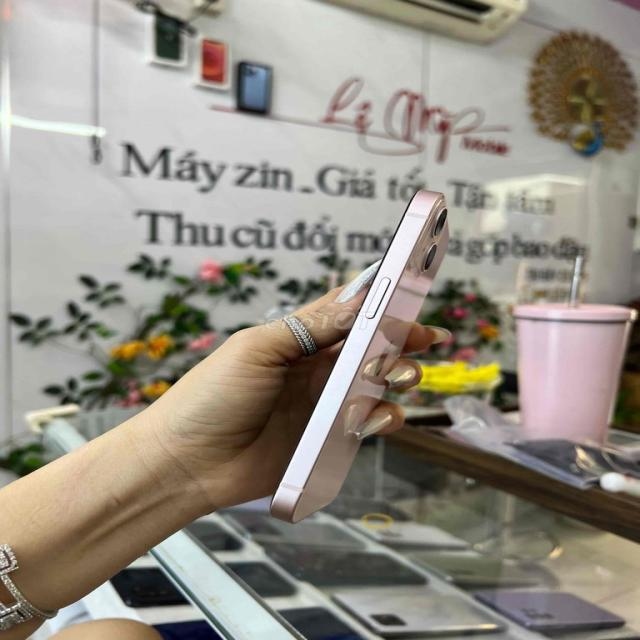gen_12_13: (267, 188, 461, 529)
